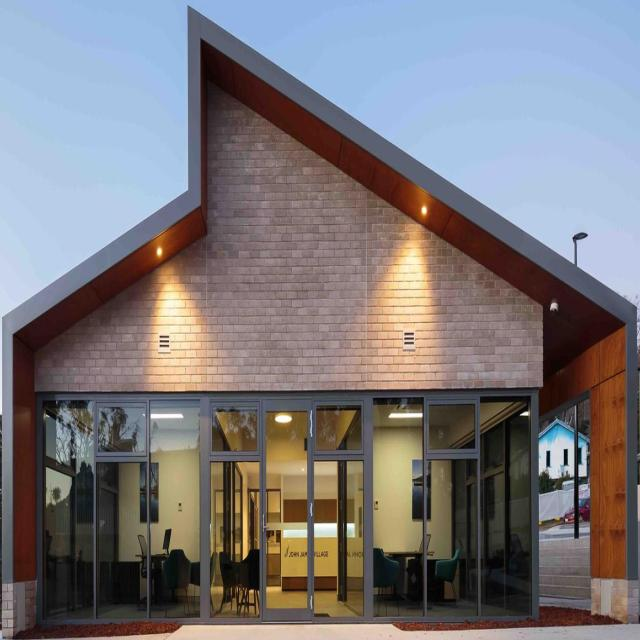door: (260, 399, 315, 625)
window: (36, 390, 540, 626)
